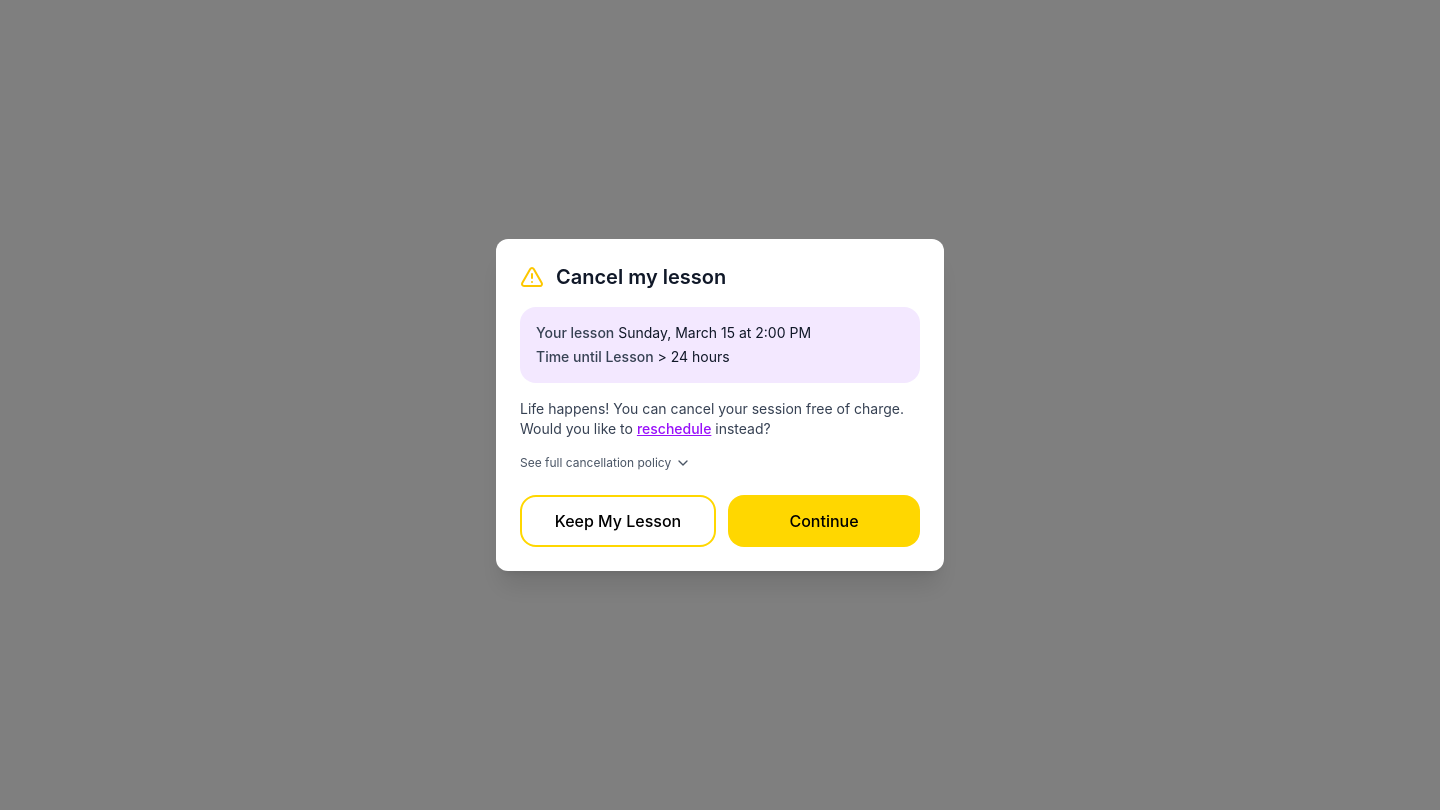
CancelWarningModal › modal interactions › toggles cancellation policy accordion
Expected: the text "more than 24 hours before" is not shown
Click the button "See full cancellation policy": (606, 463) [520, 455, 691, 471]
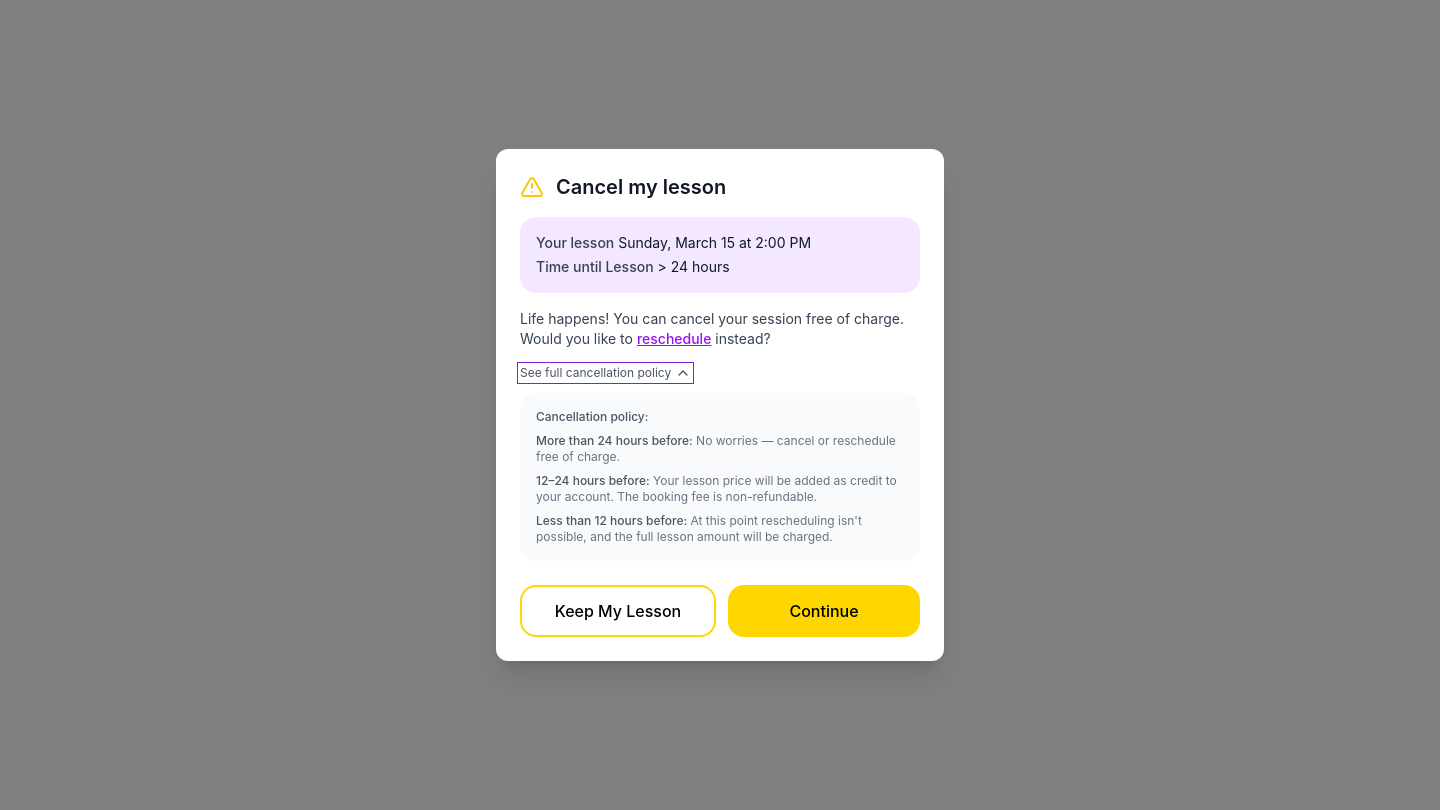
Expected: the text "More than 24 hours before:" is shown, [536, 433, 693, 448]
Expected: the text "12–24 hours before:" is shown, [536, 473, 650, 488]
Expected: the text "Less than 12 hours before:" is shown, [536, 513, 687, 528]
Note: Toggle closed
Click the button "See full cancellation policy": (606, 373) [520, 365, 691, 381]
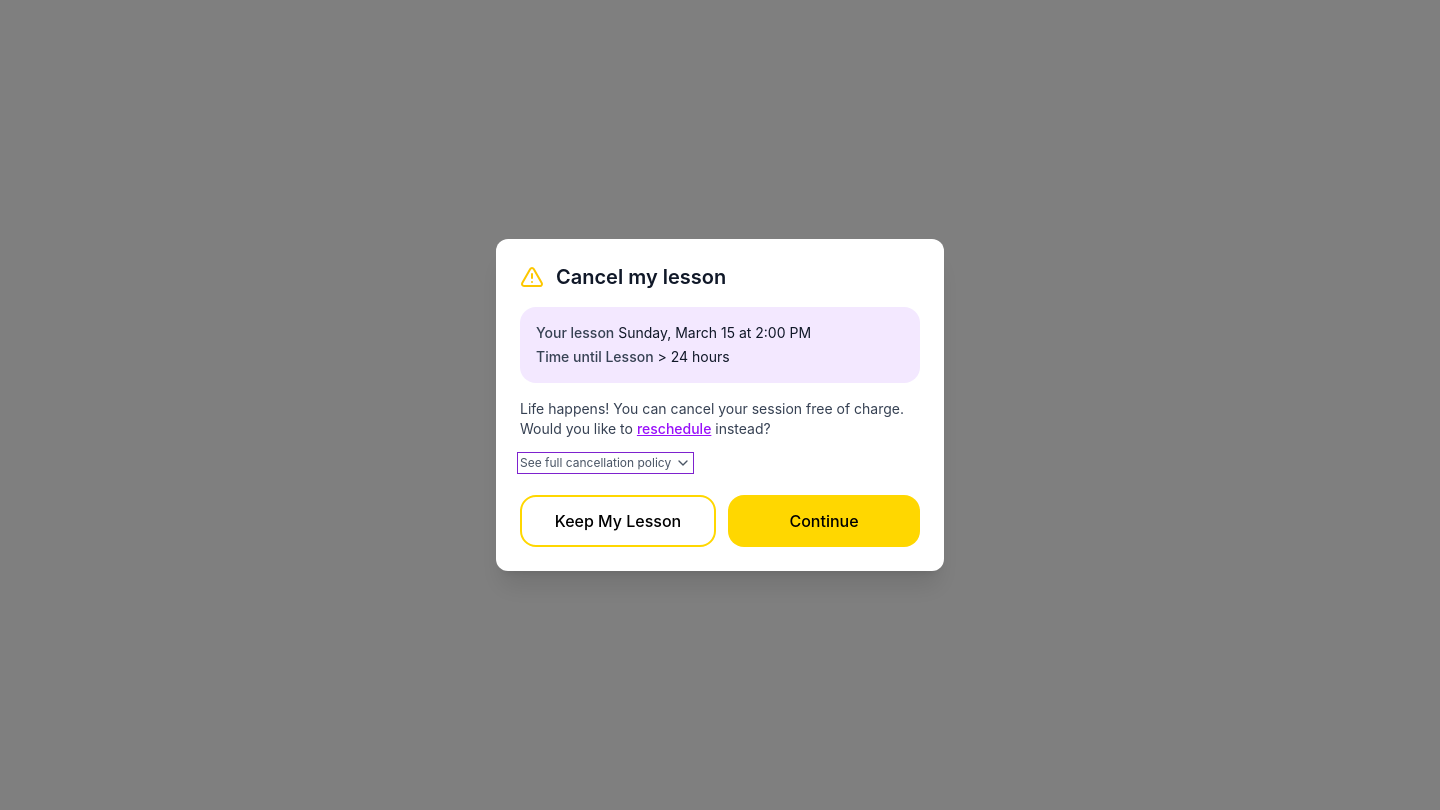
Expected: the text "More than 24 hours before" is gone
